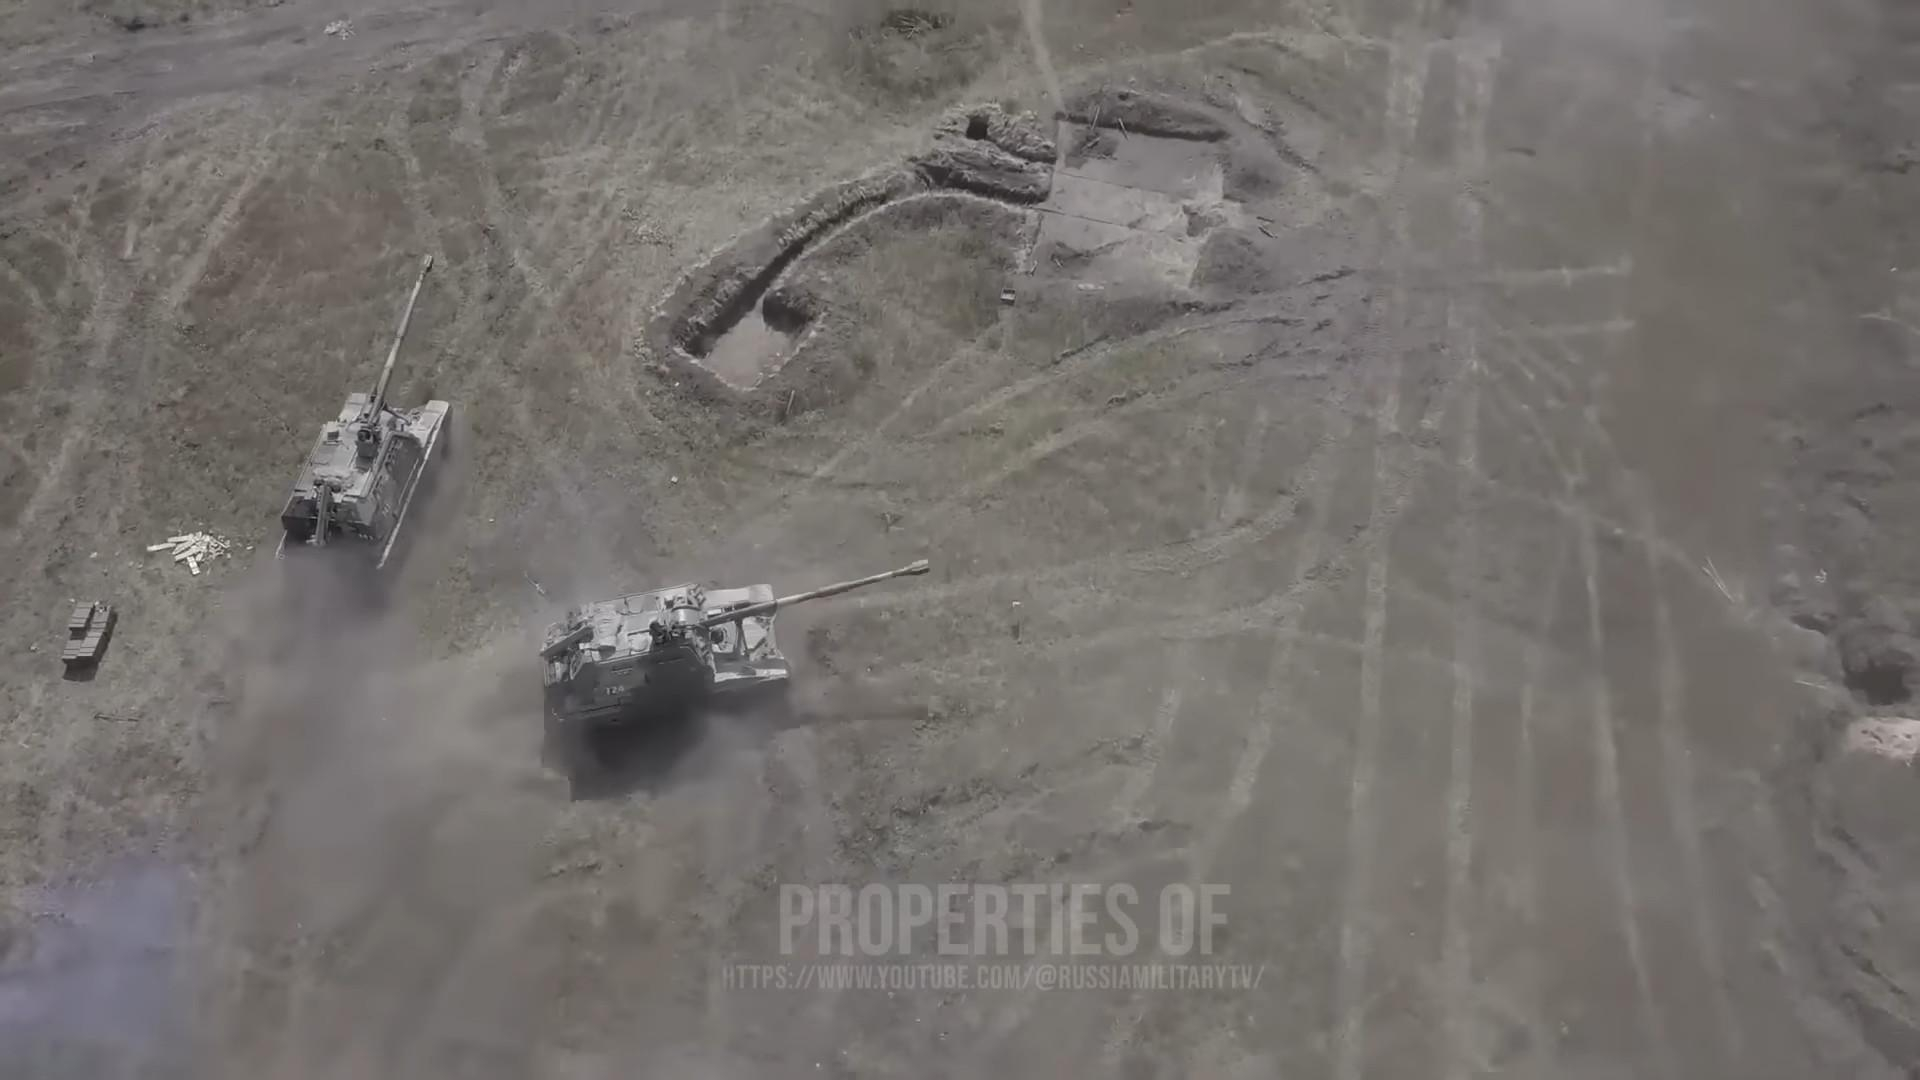tank: (539, 559, 930, 733), (276, 256, 451, 572)
